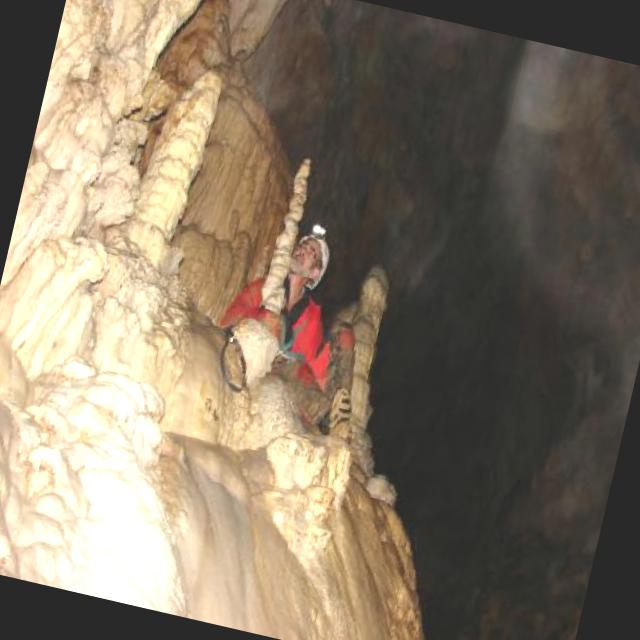Person: (201, 208, 396, 448)
